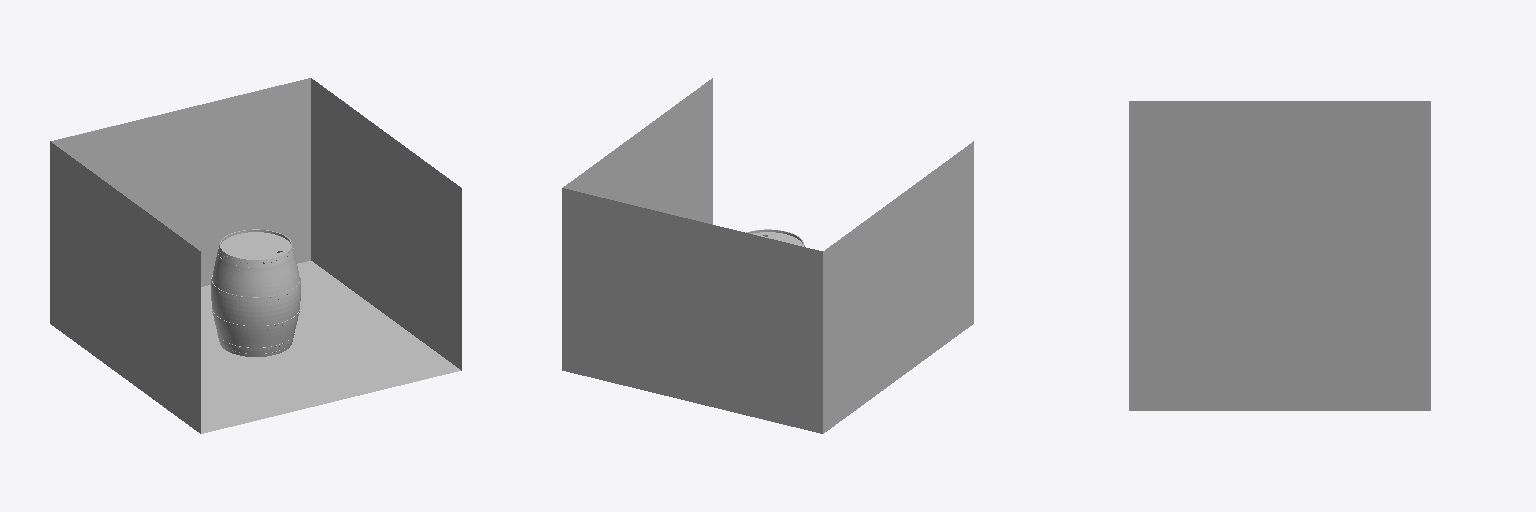
Rendered from Wooden Barrel.obj.
3 views of the same model, side by side, from view 1: azimuth 30°, elevation 25°; view 2: azimuth 150°, elevation 25°; view 3: azimuth 270°, elevation 25° (orthographic).
Parts seen in each view (by area): view 1: Plane, Cylinder_Cylinder.002; view 2: Plane; view 3: Plane.
Part boxes in pixels (bbox=[...]): Plane: bbox=[50, 78, 461, 433]; Cylinder_Cylinder.002: bbox=[211, 229, 300, 356]; Plane: bbox=[562, 78, 973, 433]; Plane: bbox=[1129, 101, 1430, 410].
Bounding box in the file's own units: 34.15 × 22.86 × 34.15.